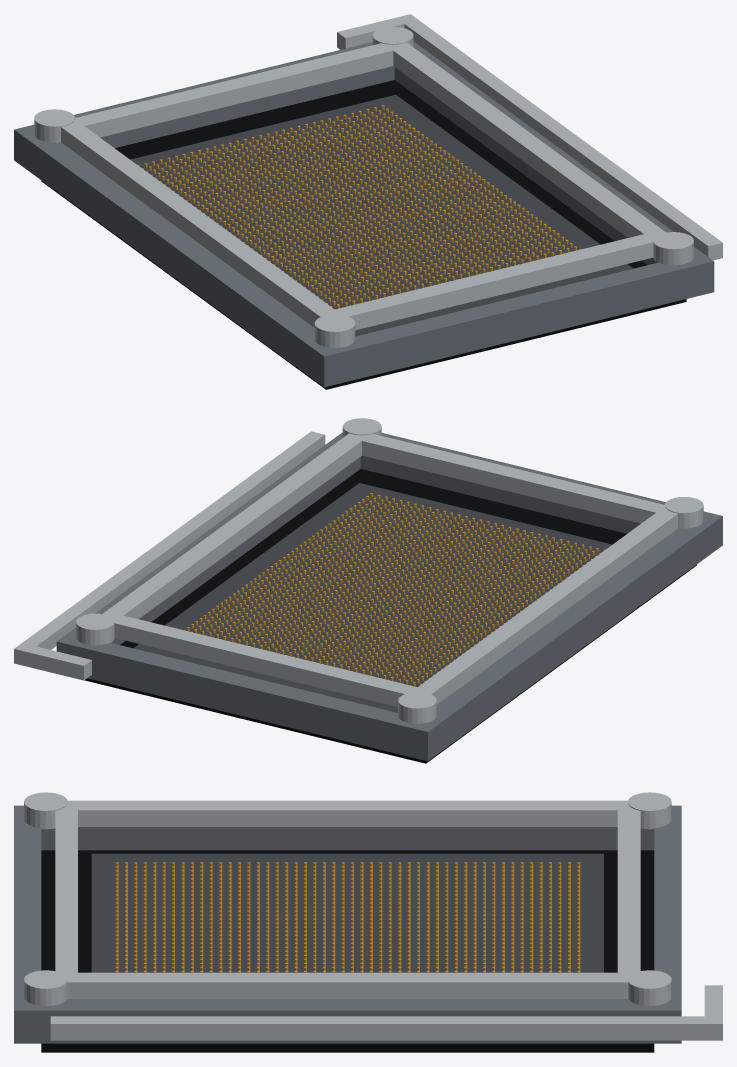
Rendered from L131_CPU_LGA1700.fbx.
3 views of the same model, one above another, from view 1: azimuth 30°, elevation 25°; view 2: azimuth 150°, elevation 25°; view 3: azimuth 270°, elevation 25° (orthographic). The views are drawn at different scales.
Parts seen in each view (by area): view 1: CPU_LGA1700_Silver, CPU_LGA1700_Gray, CPU_LGA1700_Steel, CPU_LGA1700_Gold, CPU_LGA1700_Black; view 2: CPU_LGA1700_Silver, CPU_LGA1700_Gray, CPU_LGA1700_Steel, CPU_LGA1700_Gold, CPU_LGA1700_Black; view 3: CPU_LGA1700_Silver, CPU_LGA1700_Gray, CPU_LGA1700_Steel, CPU_LGA1700_Gold, CPU_LGA1700_Black.
Boxes of the visible parts, x1=… form: CPU_LGA1700_Silver: x1=34, y1=14, x2=722, y2=347; CPU_LGA1700_Gray: x1=130, y1=94, x2=632, y2=336; CPU_LGA1700_Steel: x1=14, y1=42, x2=714, y2=387; CPU_LGA1700_Gold: x1=138, y1=105, x2=580, y2=309; CPU_LGA1700_Black: x1=41, y1=80, x2=686, y2=389; CPU_LGA1700_Silver: x1=14, y1=418, x2=703, y2=723; CPU_LGA1700_Gray: x1=133, y1=483, x2=611, y2=712; CPU_LGA1700_Steel: x1=56, y1=432, x2=722, y2=761; CPU_LGA1700_Gold: x1=184, y1=493, x2=604, y2=687; CPU_LGA1700_Black: x1=84, y1=469, x2=696, y2=763; CPU_LGA1700_Silver: x1=24, y1=792, x2=722, y2=1040; CPU_LGA1700_Gray: x1=91, y1=853, x2=603, y2=972; CPU_LGA1700_Steel: x1=14, y1=805, x2=681, y2=1043; CPU_LGA1700_Gold: x1=115, y1=862, x2=580, y2=972; CPU_LGA1700_Black: x1=41, y1=850, x2=654, y2=1052.
Bounding box in the file's own units: 5.65 × 0.81 × 7.75.
